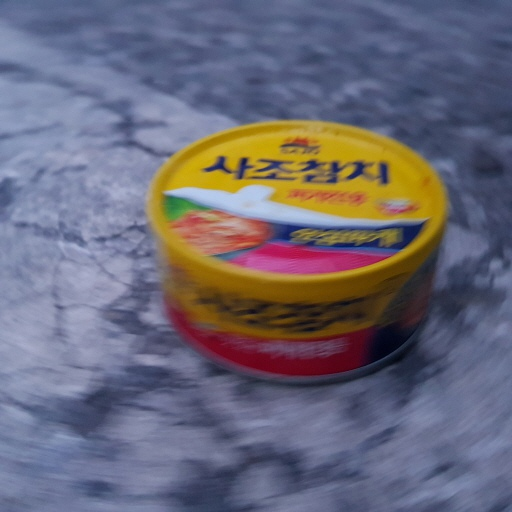Metal_1: (149, 120, 451, 379)
